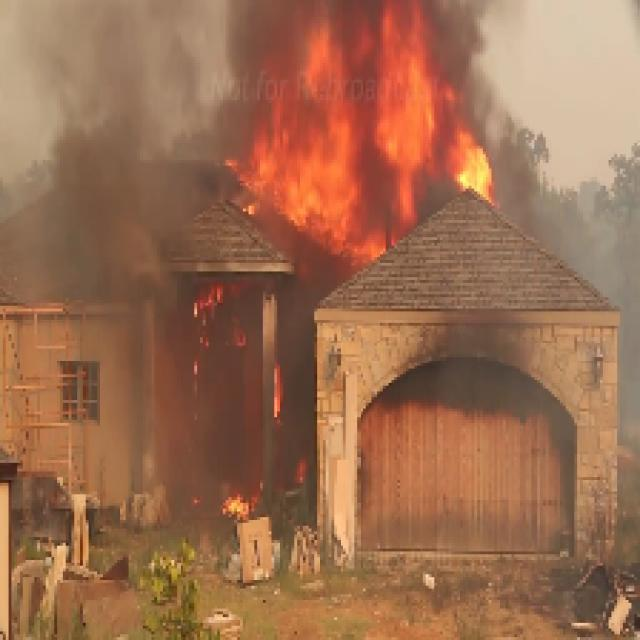Fire: (232, 40, 479, 246)
Smoke: (68, 89, 208, 348)
